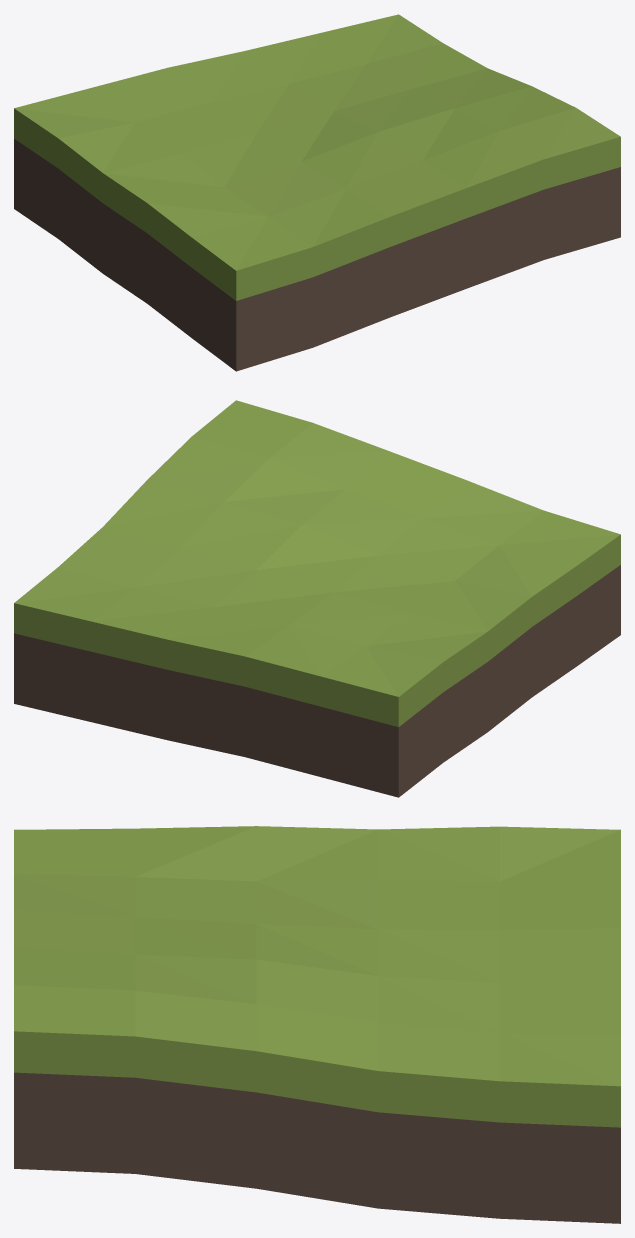
The model's file is terrain-world-hill_01-2.fbx.
3 renders of one model, top to bottom at view 1: azimuth 30°, elevation 25°; view 2: azimuth 150°, elevation 25°; view 3: azimuth 270°, elevation 25°, orthographic. The views are drawn at different scales.
Visible parts, largest first — view 1: terrain-world-hill_01-2; view 2: terrain-world-hill_01-2; view 3: terrain-world-hill_01-2.
Part boxes in pixels (<box>): terrain-world-hill_01-2: <box>14,14,620,371</box>; terrain-world-hill_01-2: <box>14,400,620,797</box>; terrain-world-hill_01-2: <box>14,826,620,1223</box>.
Size of the model in its own units: 2000 by 700 by 2000.
